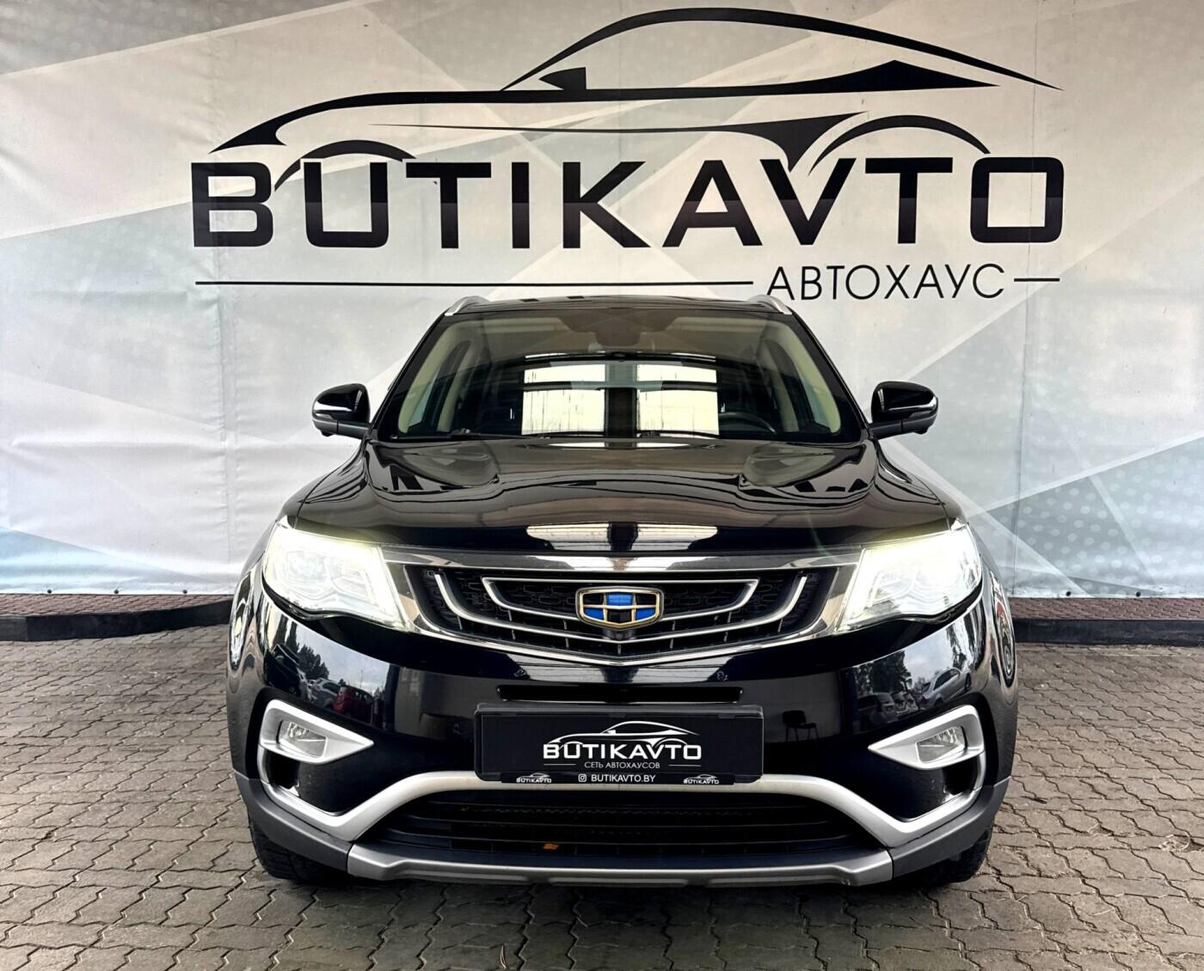Atlas_2016-2023: (220, 292, 1027, 919)
